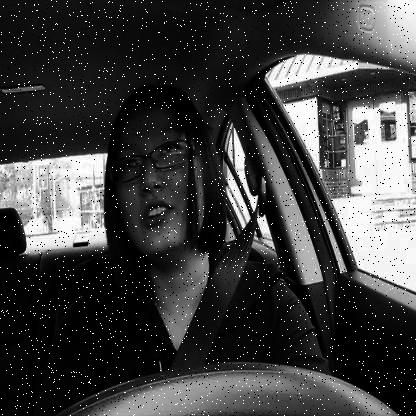seatbelt: (96, 74, 288, 416)
